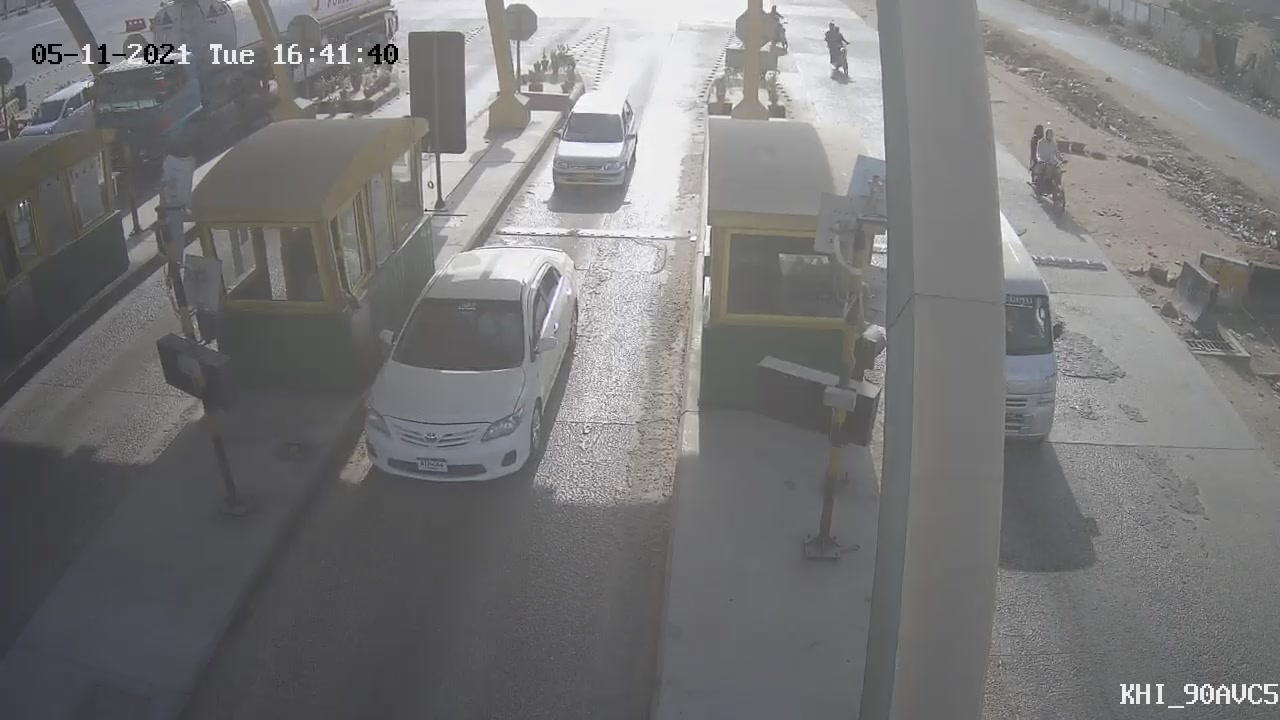F1: (346, 230, 595, 503), (539, 77, 650, 208)
